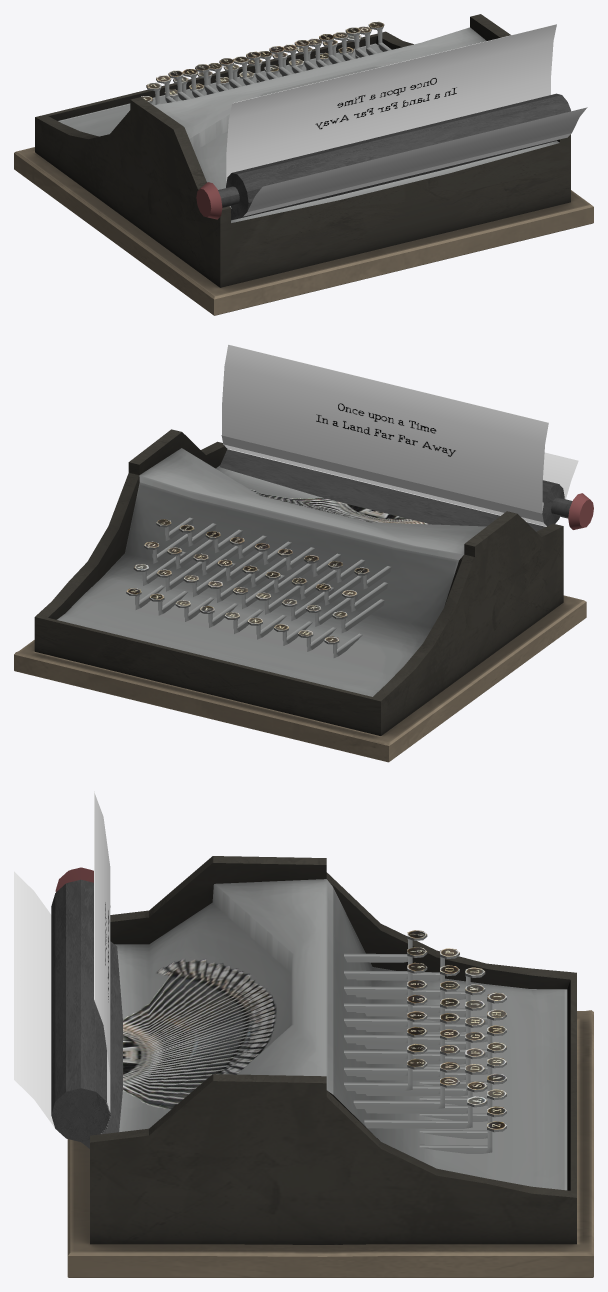
Rendered from typewriter.fbx.
The picture shows the model from 3 angles, top to bottom: view 1: azimuth 30°, elevation 25°; view 2: azimuth 150°, elevation 25°; view 3: azimuth 270°, elevation 25°; orthographic projection. The views are drawn at different scales.
Visible parts, largest first — view 1: typewriter, pCylinder80; view 2: typewriter, pCylinder80; view 3: typewriter, pCylinder80, pCylinder82, pCylinder14, pCylinder103, pCylinder107, pCylinder109, pCylinder108, pCylinder102, pCylinder105, pCylinder83, pCylinder110 (+9 smaller).
Boxes of the visible parts, bbox=[...] form: typewriter: bbox=[14, 14, 593, 315]; pCylinder80: bbox=[196, 24, 587, 220]; typewriter: bbox=[14, 429, 586, 762]; pCylinder80: bbox=[219, 344, 593, 531]; typewriter: bbox=[67, 856, 593, 1277]; pCylinder80: bbox=[14, 791, 122, 1148]; pCylinder82: bbox=[364, 1096, 487, 1128]; pCylinder14: bbox=[353, 1077, 459, 1109]; pCylinder103: bbox=[344, 1058, 427, 1091]; pCylinder107: bbox=[344, 962, 427, 995]; pCylinder109: bbox=[344, 994, 427, 1027]; pCylinder108: bbox=[344, 980, 427, 1012]; pCylinder102: bbox=[344, 1043, 427, 1076]; pCylinder105: bbox=[344, 1026, 427, 1059]; pCylinder83: bbox=[364, 1081, 487, 1114]; pCylinder110: bbox=[344, 930, 427, 962].
Bounding box in the file's own units: 0.5699 × 0.2809 × 0.565.
